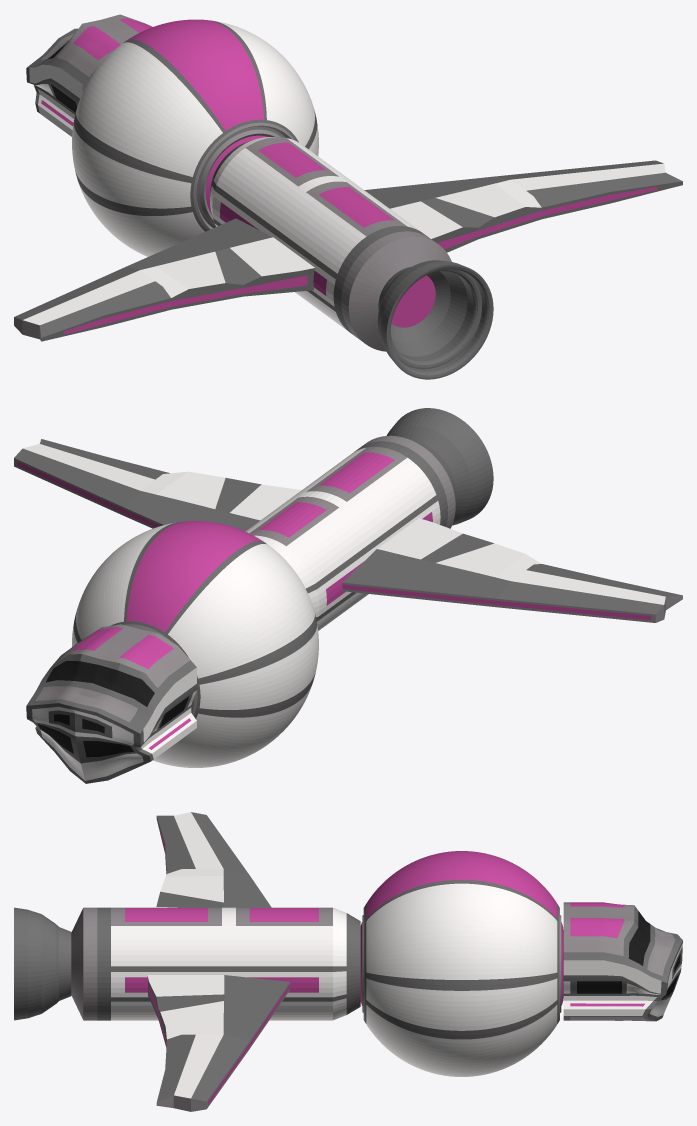
File: spaceship.fbx
3 views of the same model, one above another, from view 1: azimuth 30°, elevation 25°; view 2: azimuth 150°, elevation 25°; view 3: azimuth 270°, elevation 25° (orthographic). The views are drawn at different scales.
Parts seen in each view (by area): view 1: centre, réacteur, wings, cockpit; view 2: centre, wings, réacteur, cockpit; view 3: centre, réacteur, wings, cockpit.
Boxes of the visible parts, x1,y1,x2,y2 form: centre: (72,19,318,256); réacteur: (210,137,493,379); wings: (14,160,682,341); cockpit: (26,14,152,136); centre: (72,521,318,767); wings: (14,439,682,622); réacteur: (245,408,493,630); cockpit: (26,624,196,783); centre: (360,851,563,1076); réacteur: (14,907,360,1020); wings: (147,812,290,1111); cockpit: (563,902,682,1021).
Bounding box in the file's own units: 900 × 300 × 888.
